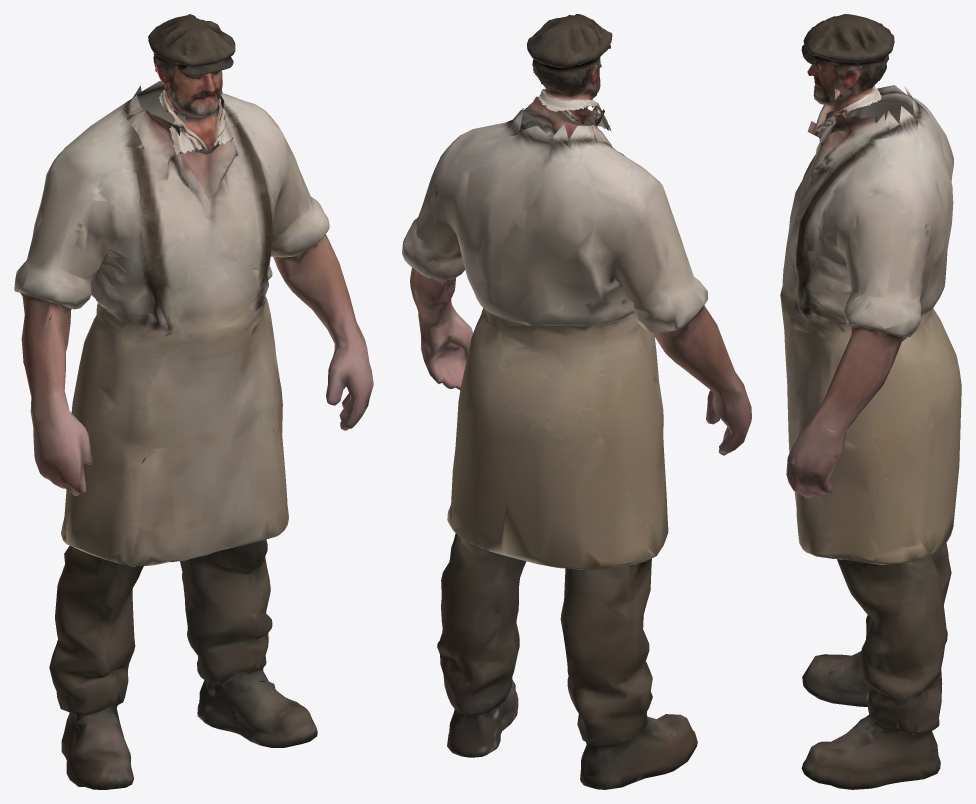
The model's file is miller.phone.glb.
3 renders of one model, left to right at view 1: azimuth 30°, elevation 25°; view 2: azimuth 150°, elevation 25°; view 3: azimuth 270°, elevation 25°, orthographic. The views are drawn at different scales.
Visible parts, largest first — view 1: miller.phone.raw; view 2: miller.phone.raw; view 3: miller.phone.raw.
Boxes of the visible parts, <box> form: miller.phone.raw: <box>14,14,373,789</box>; miller.phone.raw: <box>402,14,751,789</box>; miller.phone.raw: <box>780,14,961,789</box>.
Bounding box in the file's own units: 0.8479 × 1.8 × 0.4099.
1 material, 1 textured.
